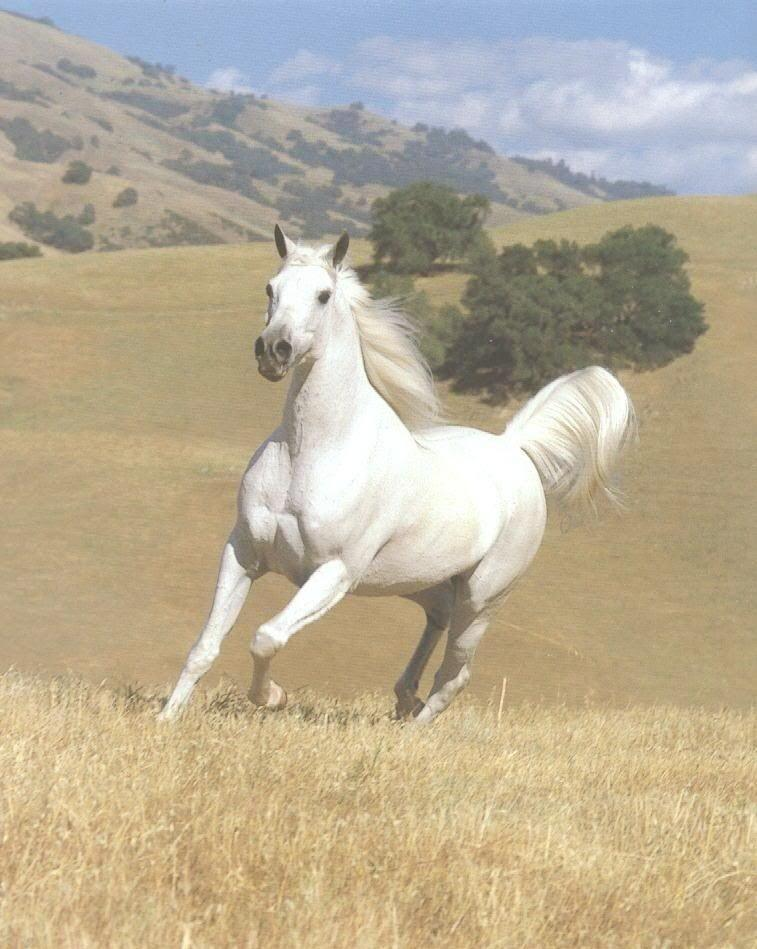horse: (154, 223, 638, 729)
